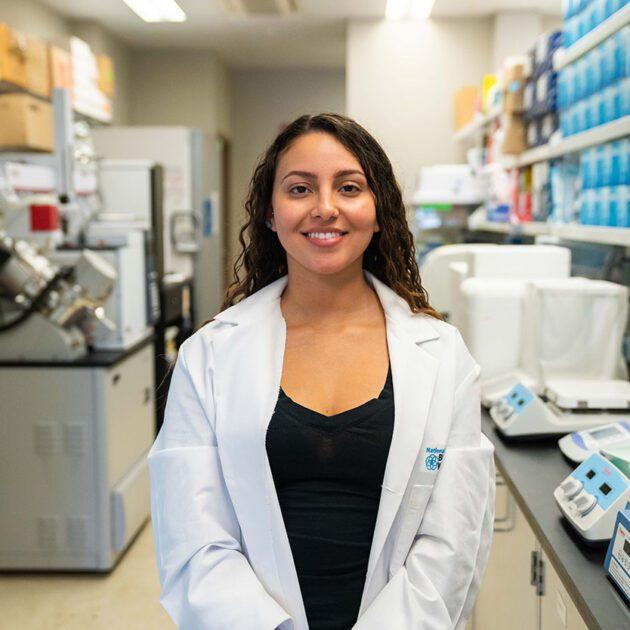Bata-Incorrecta: (133, 103, 504, 630)
